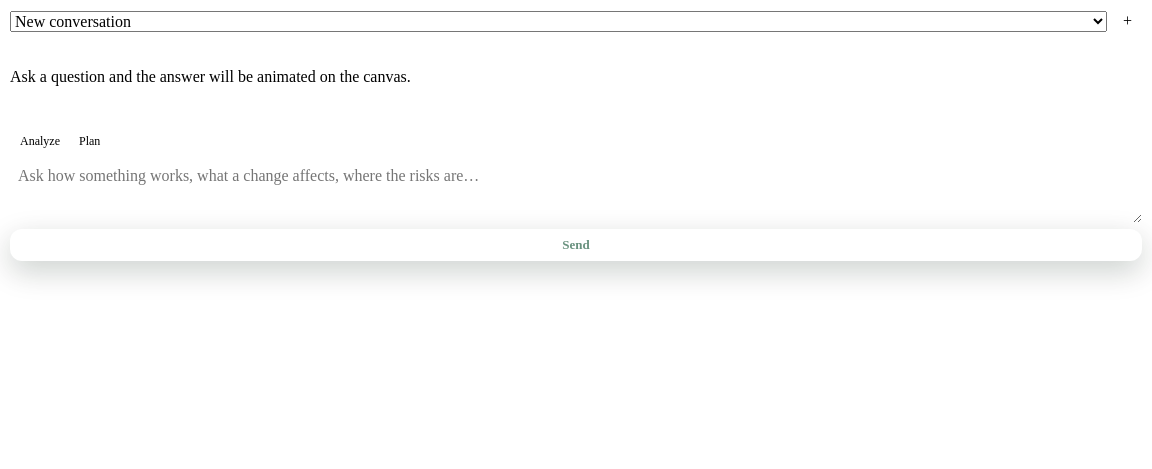
ChatPanel › renders assistant answers as markdown and keeps user messages as plain text
The width and height of the screenshot is (1152, 469).
Replace the text in the 2nd text box with test id "chat-input" with "**not bold** for me" at (576, 191), box [10, 159, 1142, 223]
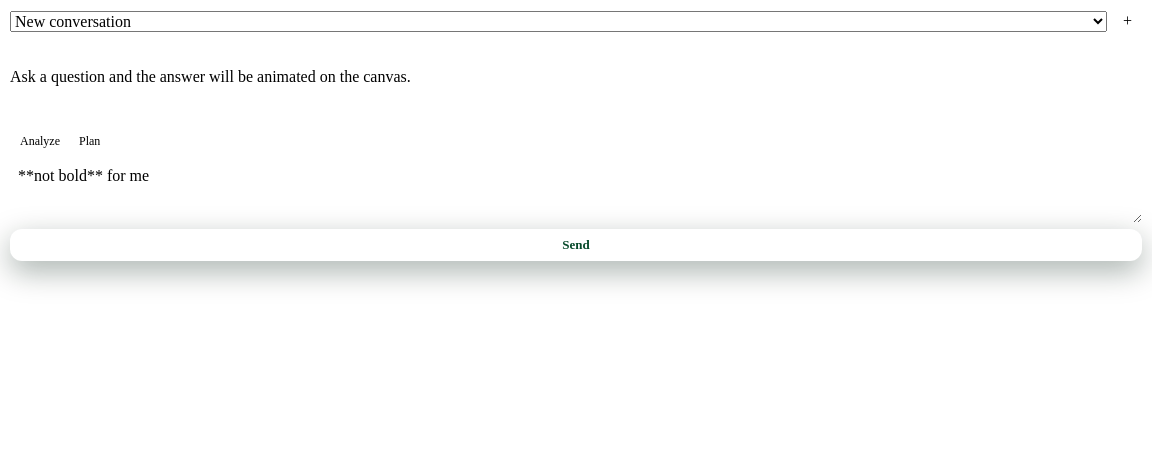
Expected: the button with test id "chat-send" is enabled
Click the button with test id "chat-send" at (576, 245), box [10, 229, 1142, 261]
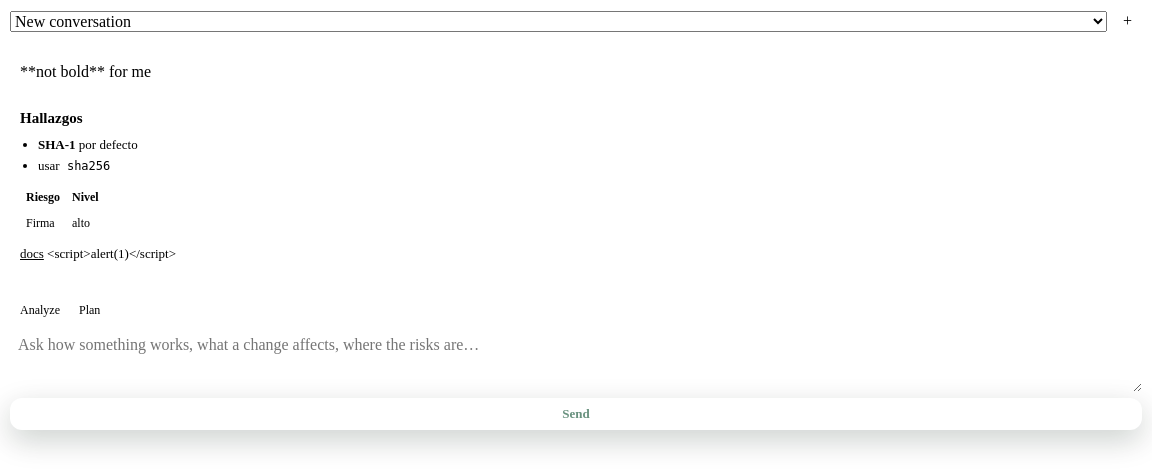
Expected: the heading "Hallazgos" is shown, [20, 110, 82, 126]
Expected: the text "SHA-1" is shown, [38, 137, 76, 152]
Expected: the text "sha256" is shown, [67, 159, 110, 173]
